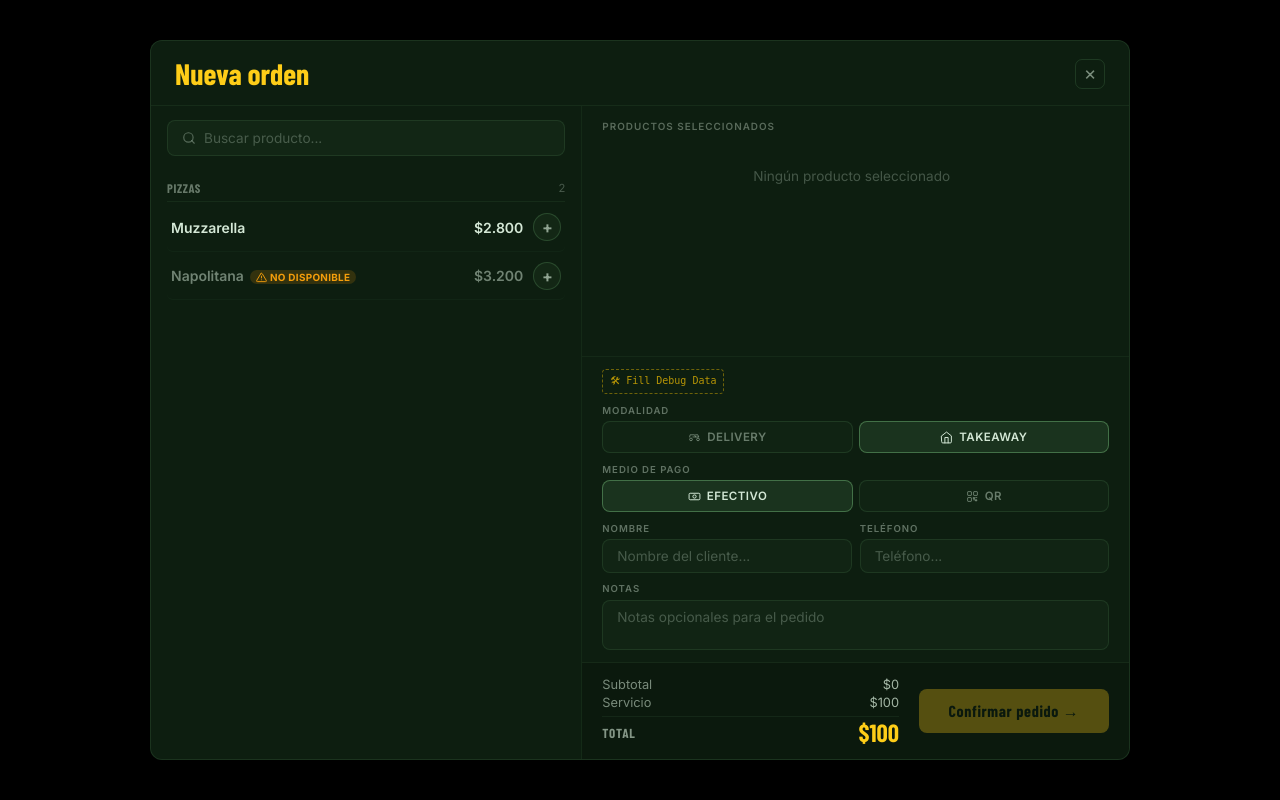
it: NewOrderModal · advertencia de productos no disponibles (US-15-F-09) › confirmar con un no disponible abre el modal de confirmación antes del POST
Check: the text "Muzzarella" is shown, box [171,219,245,236]
What coordinates should you click on to do the following:
click the button named "Agregar Napolitana"
I would click on:
 (547, 276)
Its box is [533,262,561,290].
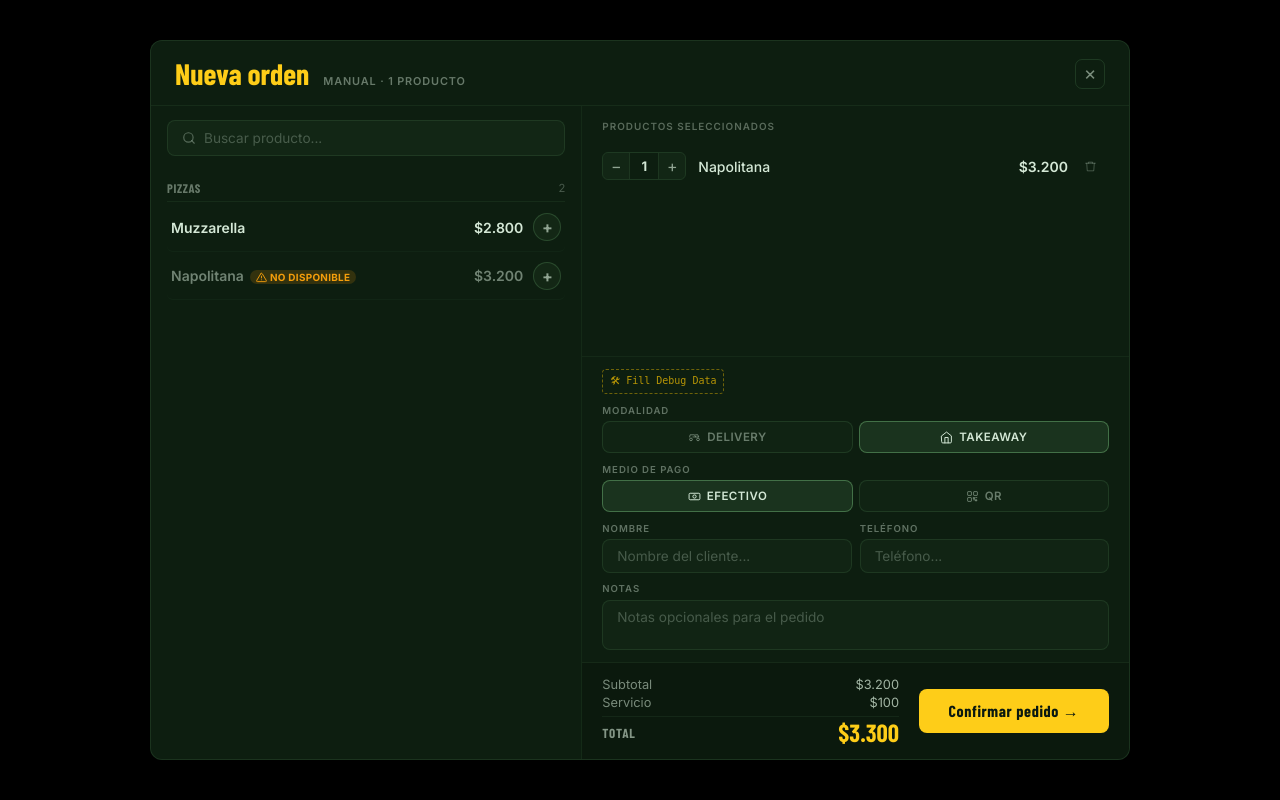
What coordinates should you click on to do the following:
click the button "Confirmar pedido →"
I would click on:
 (1014, 711)
Its box is [919,689,1109,733].
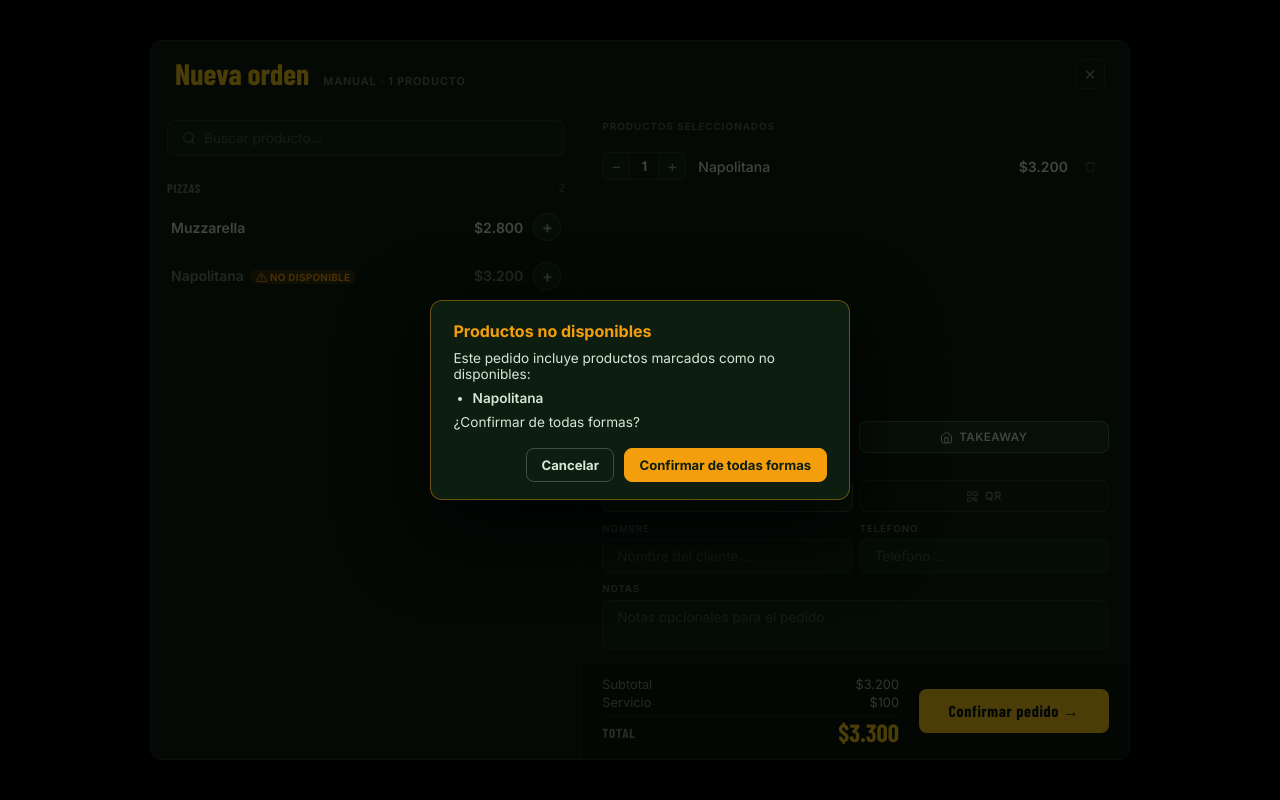
Check: the list item "Napolitana" is shown, box [473,390,543,406]
